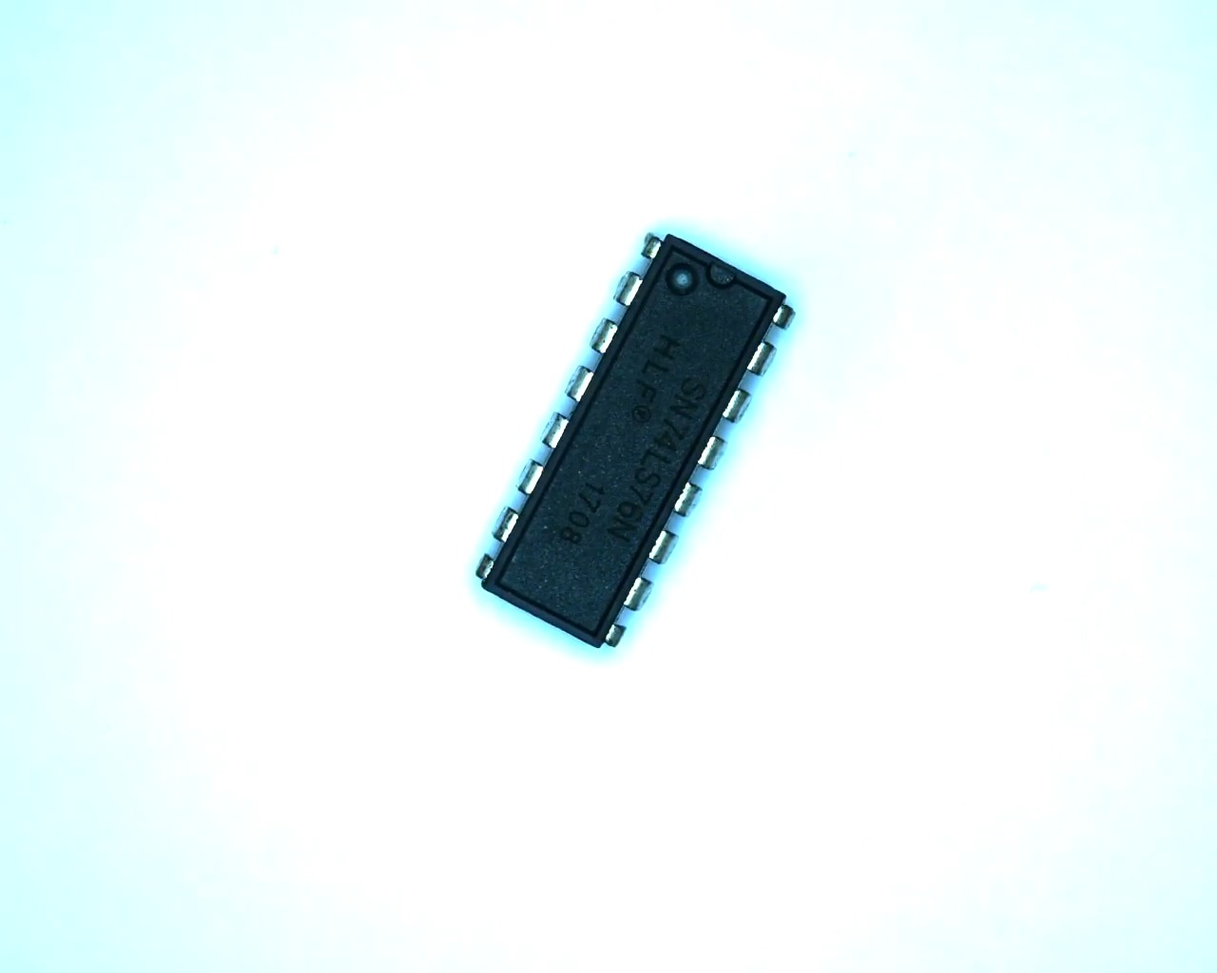IC: (460, 216, 810, 665)
notch: (701, 254, 744, 295)
